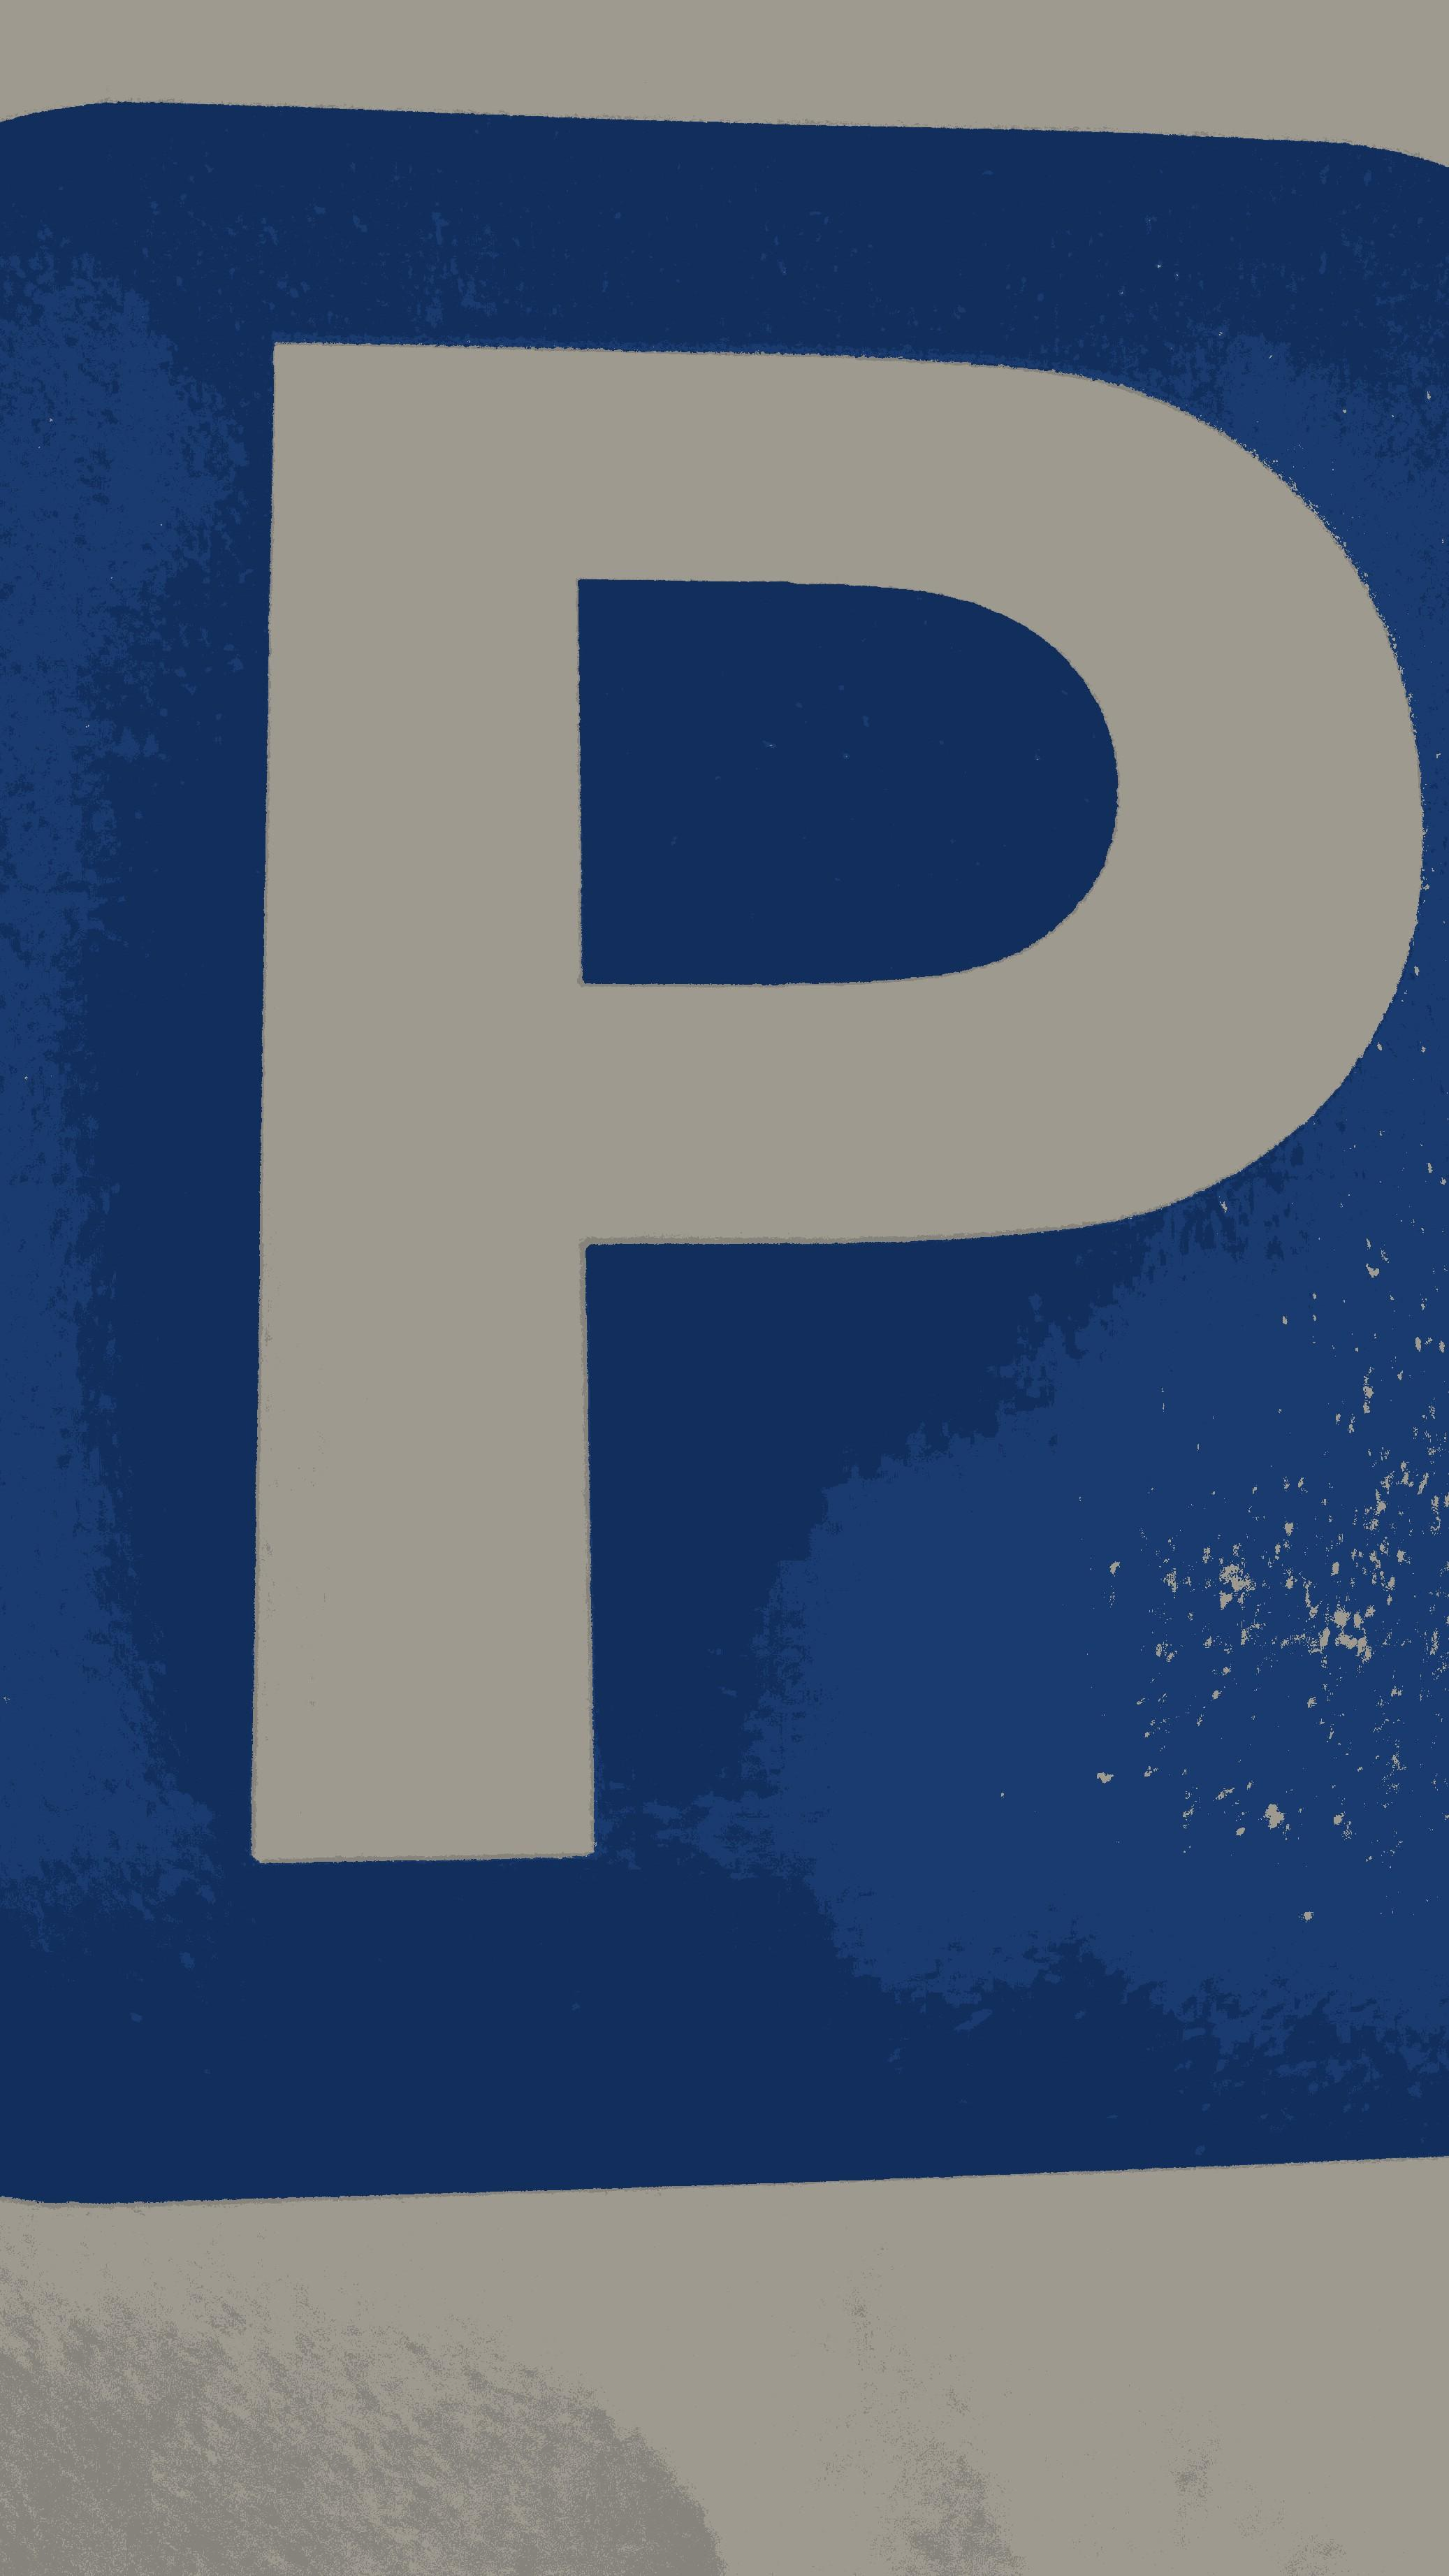parking: (14, 111, 1449, 2194)
